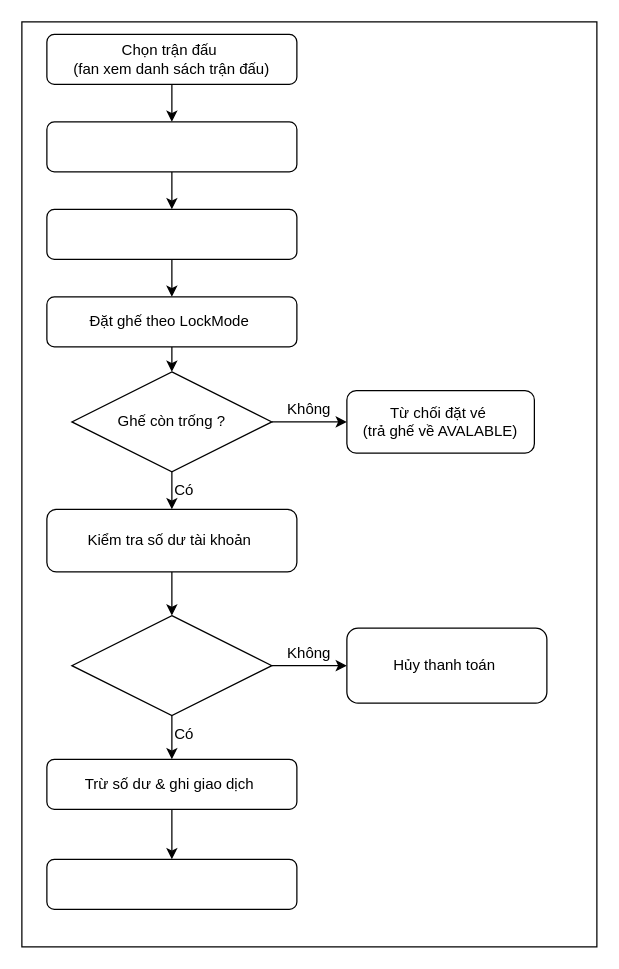
Some shapes in this 619 by 969 pixel diagram are drawn without their labels. Each missing label, with the centre of its shape:
"Chọn ghế trống (Tối đa 4 ghế/lượt)" goes at (171,146).
"có đủ số dư ?" goes at (171,665).
"Kiểm tra fan, match, ghế" goes at (171,233).
"Tạo vé & cập nhập ghế" goes at (171,883).
